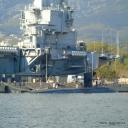submarine: (26, 72, 123, 95)
